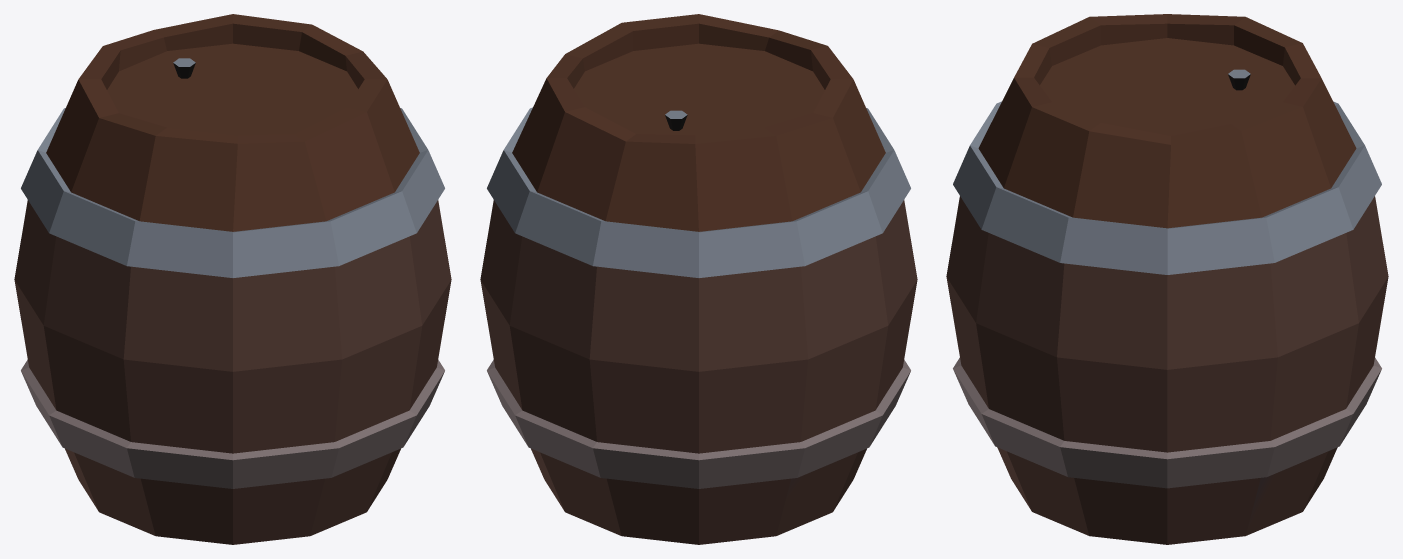
The model's file is baller.fbx.
3 views of the same model, side by side, from view 1: azimuth 30°, elevation 25°; view 2: azimuth 150°, elevation 25°; view 3: azimuth 270°, elevation 25° (orthographic).
Visible parts, largest first — view 1: baller; view 2: baller; view 3: baller.
Part boxes in pixels (bbox=[...]): baller: bbox=[14, 14, 451, 544]; baller: bbox=[480, 14, 917, 544]; baller: bbox=[946, 14, 1388, 544].
Bounding box in the file's own units: 98.98 × 100 × 98.98.
Materials: 1 (1 with a texture image).
